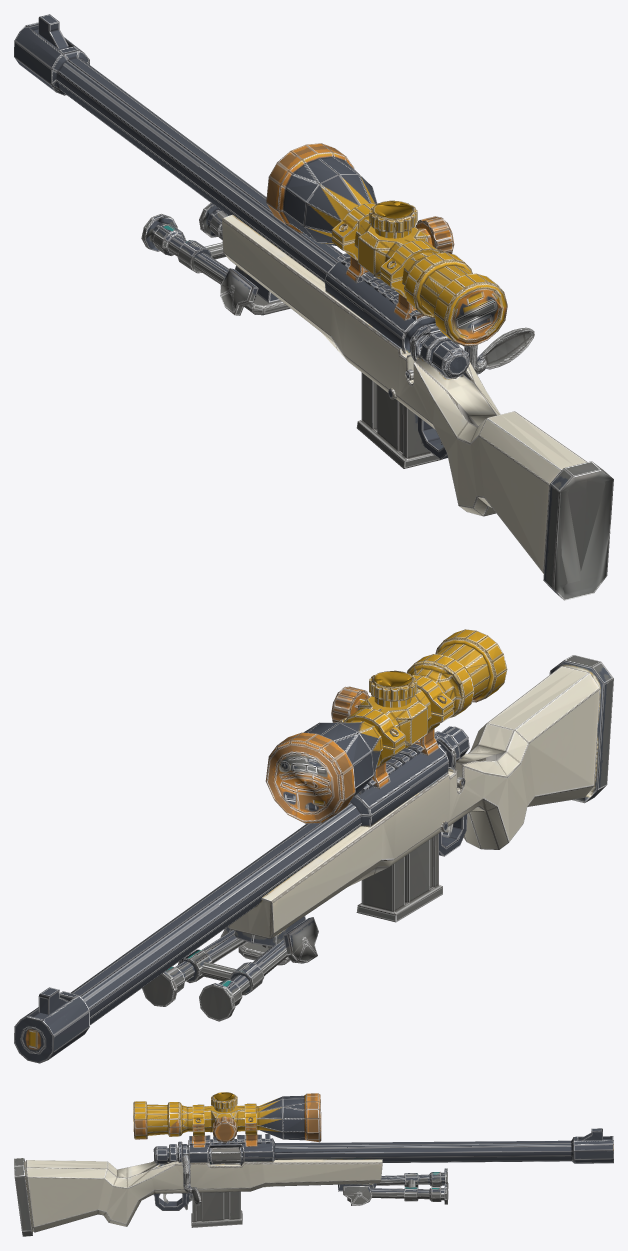
Rendered from faucheur.glb.
3 views of the same model, one above another, from view 1: azimuth 30°, elevation 25°; view 2: azimuth 150°, elevation 25°; view 3: azimuth 270°, elevation 25° (orthographic). The views are drawn at different scales.
Parts seen in each view (by area): view 1: Body, Mag, Bolt; view 2: Body, Mag; view 3: Body, Mag, Bolt.
Part boxes in pixels (x1,y1,x2,y2): Body: (14, 14, 613, 600); Mag: (356, 372, 442, 468); Bolt: (463, 327, 534, 374); Body: (14, 629, 613, 1063); Mag: (356, 833, 442, 922); Body: (14, 1092, 613, 1236); Mag: (191, 1191, 242, 1227); Bolt: (182, 1156, 201, 1205).
Size of the model in its own units: 0.2241 by 0.3288 by 1.31.
Materials: 1 (1 with a texture image).
